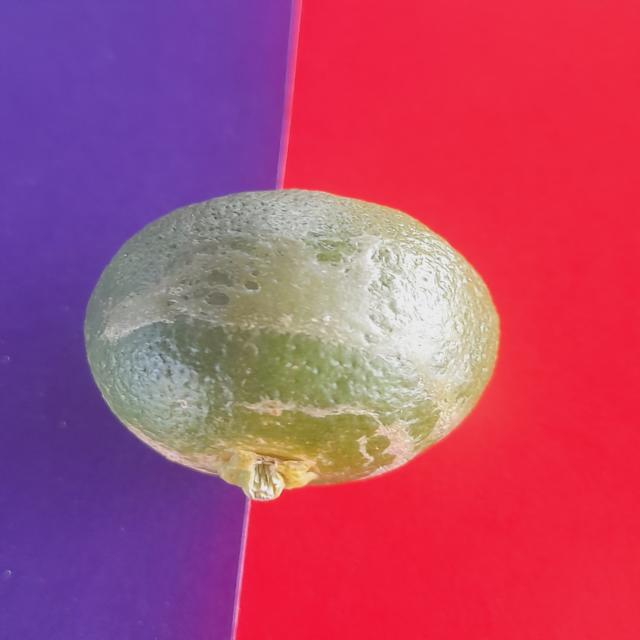thrips: (100, 200, 489, 475)
